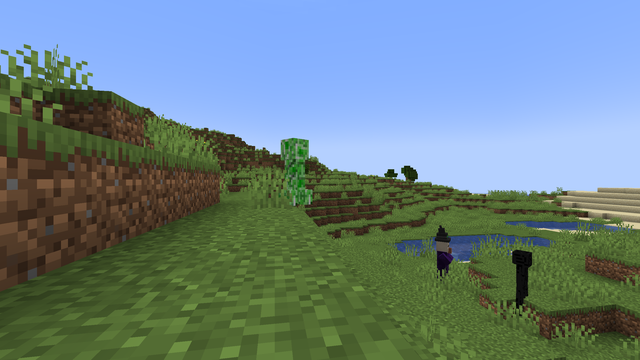creepers: (282, 134, 307, 205)
endermens: (508, 247, 535, 328)
sorcieres: (432, 237, 452, 284)
